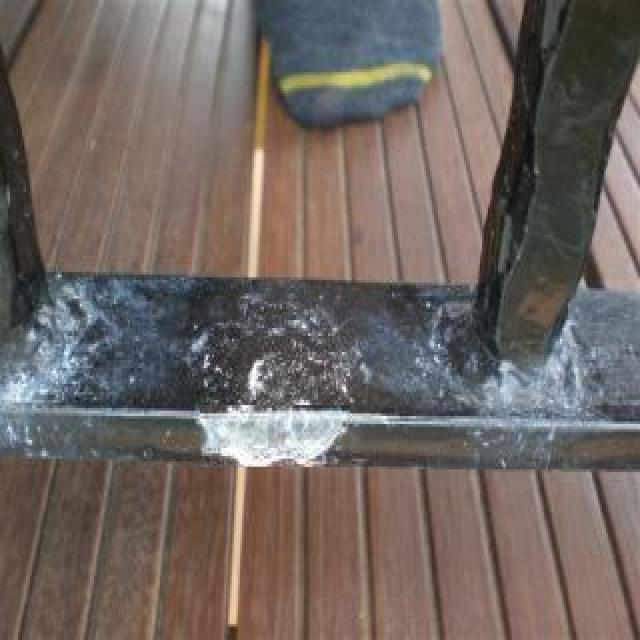Corrosion: (527, 295, 572, 334)
